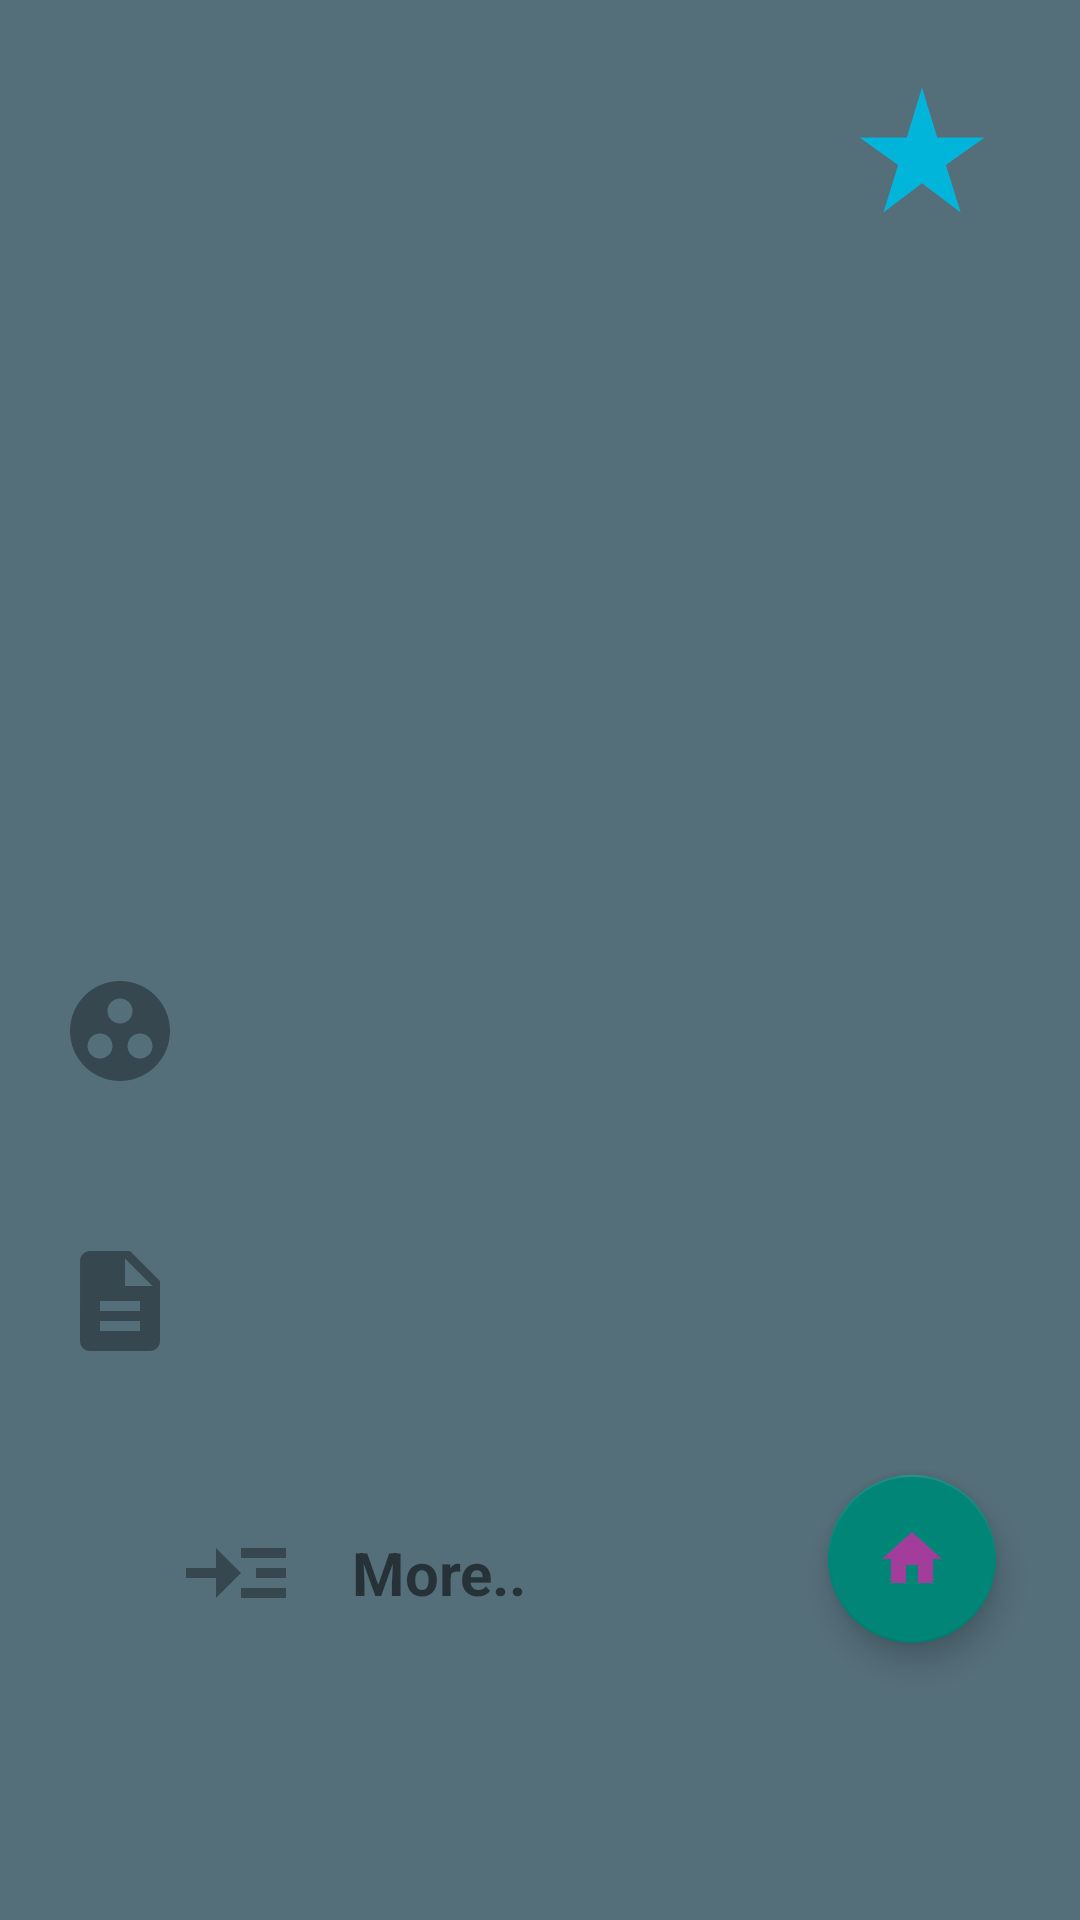

Screen size 1080 x 1920. Icon name, then its center in pixels as (x=x, y=y):
Description imgae: (x=120, y=1301)
Go to home: (x=912, y=1559)
